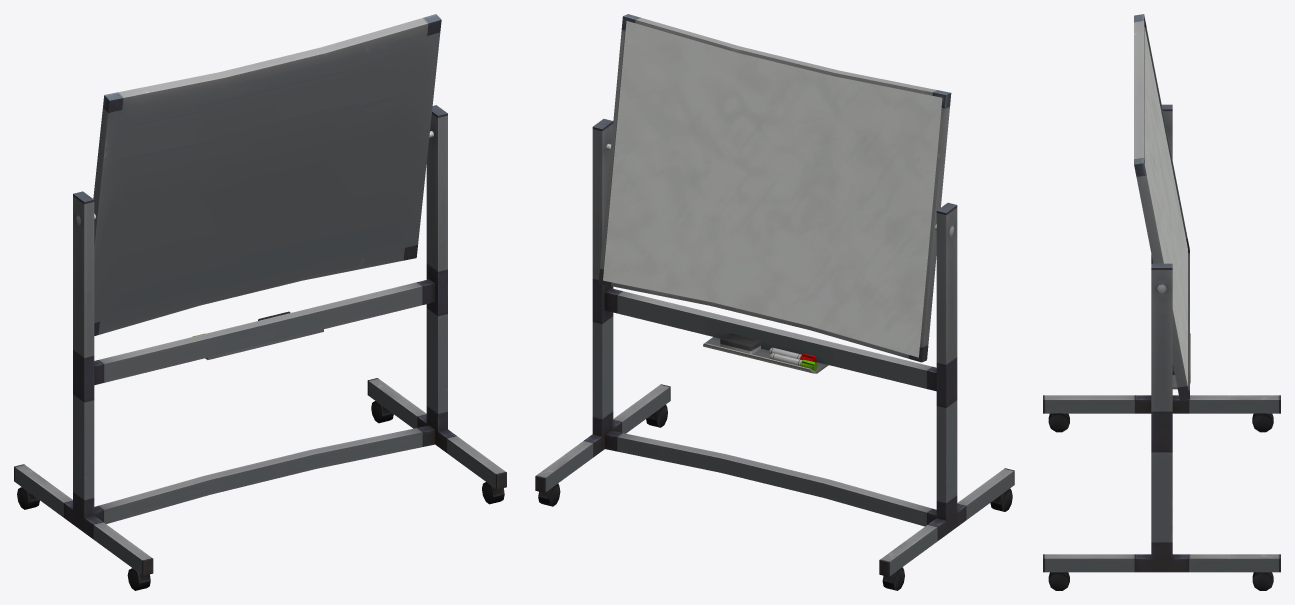
The model's file is OfficeWhiteBoard01__2.fbx.
3 views of the same model, side by side, from view 1: azimuth 30°, elevation 25°; view 2: azimuth 150°, elevation 25°; view 3: azimuth 270°, elevation 25° (orthographic). The views are drawn at different scales.
Visible parts, largest first — view 1: OfficeWhiteBoard01; view 2: OfficeWhiteBoard01; view 3: OfficeWhiteBoard01.
Part boxes in pixels (x1,y1,x2,y2): OfficeWhiteBoard01: (14,14,506,590); OfficeWhiteBoard01: (535,14,1014,590); OfficeWhiteBoard01: (1043,14,1280,590).
Size of the model in its own units: 1.65 by 1.97 by 1.01.
Materials: 1 (1 with a texture image).
